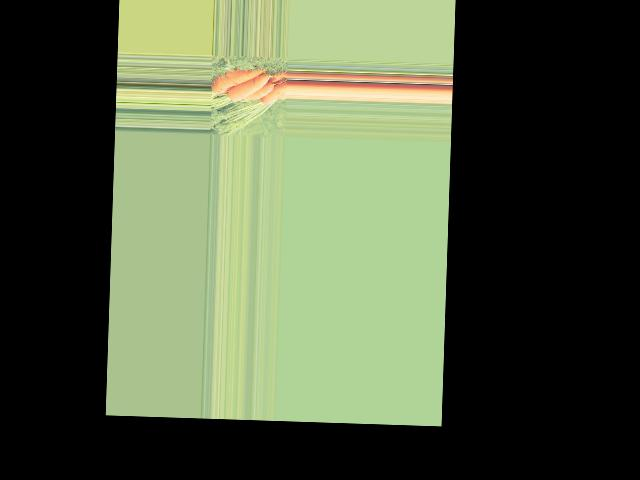carrot: (260, 78, 284, 107)
